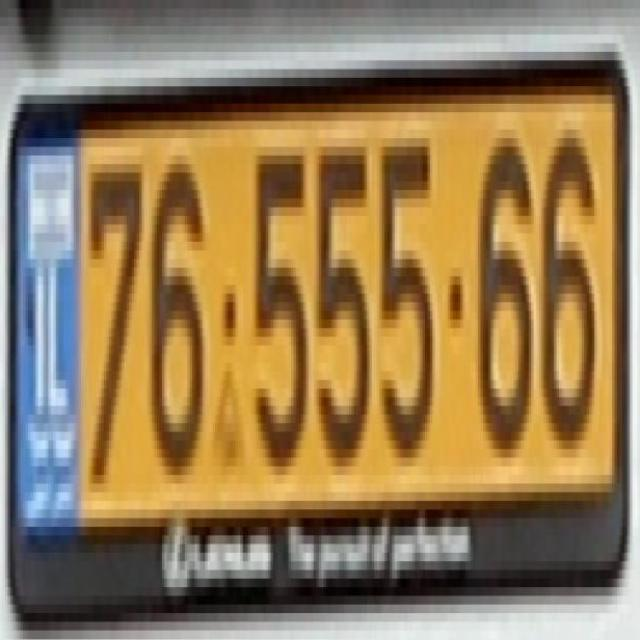LicensePlate: (0, 24, 636, 626)
